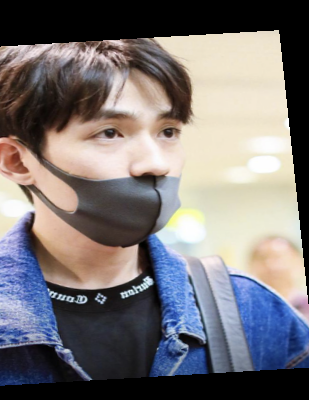mask_weared_incorrect: (1, 34, 199, 274)
